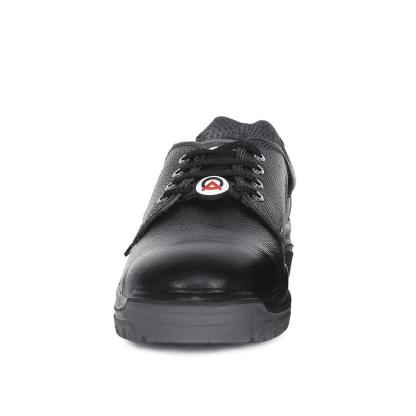bota: (110, 111, 300, 347)
